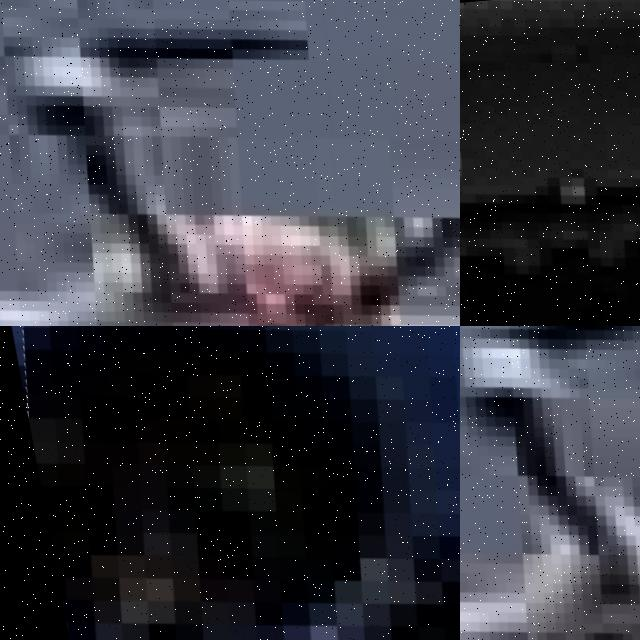0: (0, 0, 460, 326), (460, 326, 640, 640)
drone: (0, 326, 460, 640), (460, 0, 640, 326)
